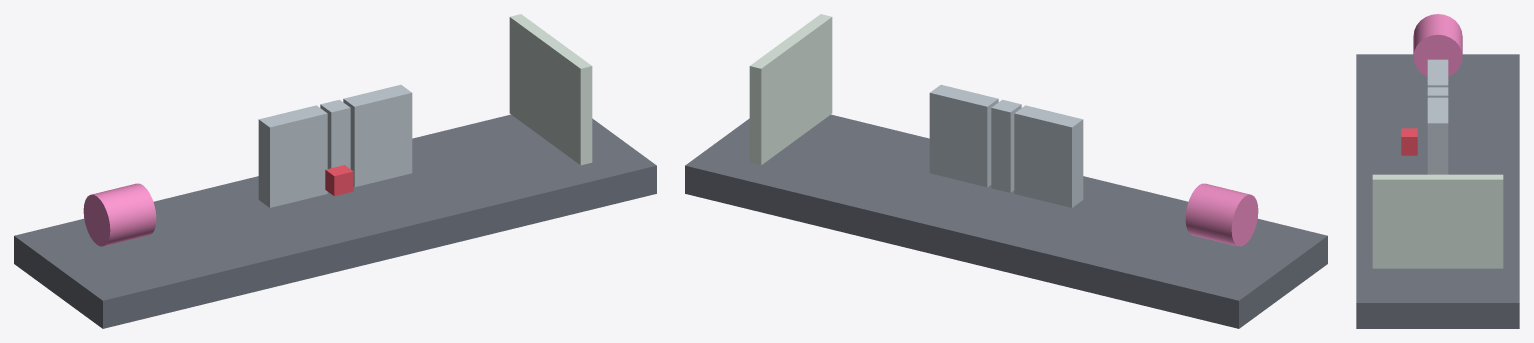
File: double_slit_bench.glb
The picture shows the model from 3 angles, left to right: view 1: azimuth 30°, elevation 25°; view 2: azimuth 150°, elevation 25°; view 3: azimuth 270°, elevation 25°; orthographic projection. The views are drawn at different scales.
Visible parts, largest first — view 1: rail-base, barrier-double-slit, screen, source-gun, observer-detector; view 2: rail-base, barrier-double-slit, screen, source-gun; view 3: rail-base, screen, barrier-double-slit, source-gun, observer-detector.
Boxes of the visible parts, <box> form: rail-base: <box>14,114,656,328</box>; barrier-double-slit: <box>258,84,412,207</box>; screen: <box>509,14,592,165</box>; source-gun: <box>83,183,156,246</box>; observer-detector: <box>325,165,353,196</box>; rail-base: <box>685,114,1327,328</box>; barrier-double-slit: <box>929,84,1083,207</box>; screen: <box>749,14,832,165</box>; source-gun: <box>1185,183,1258,246</box>; rail-base: <box>1356,54,1519,328</box>; screen: <box>1372,174,1503,268</box>; barrier-double-slit: <box>1427,59,1448,174</box>; source-gun: <box>1413,14,1462,76</box>; observer-detector: <box>1401,128,1417,155</box>.
Size of the model in its own units: 0.72 by 0.1675 by 0.2.
